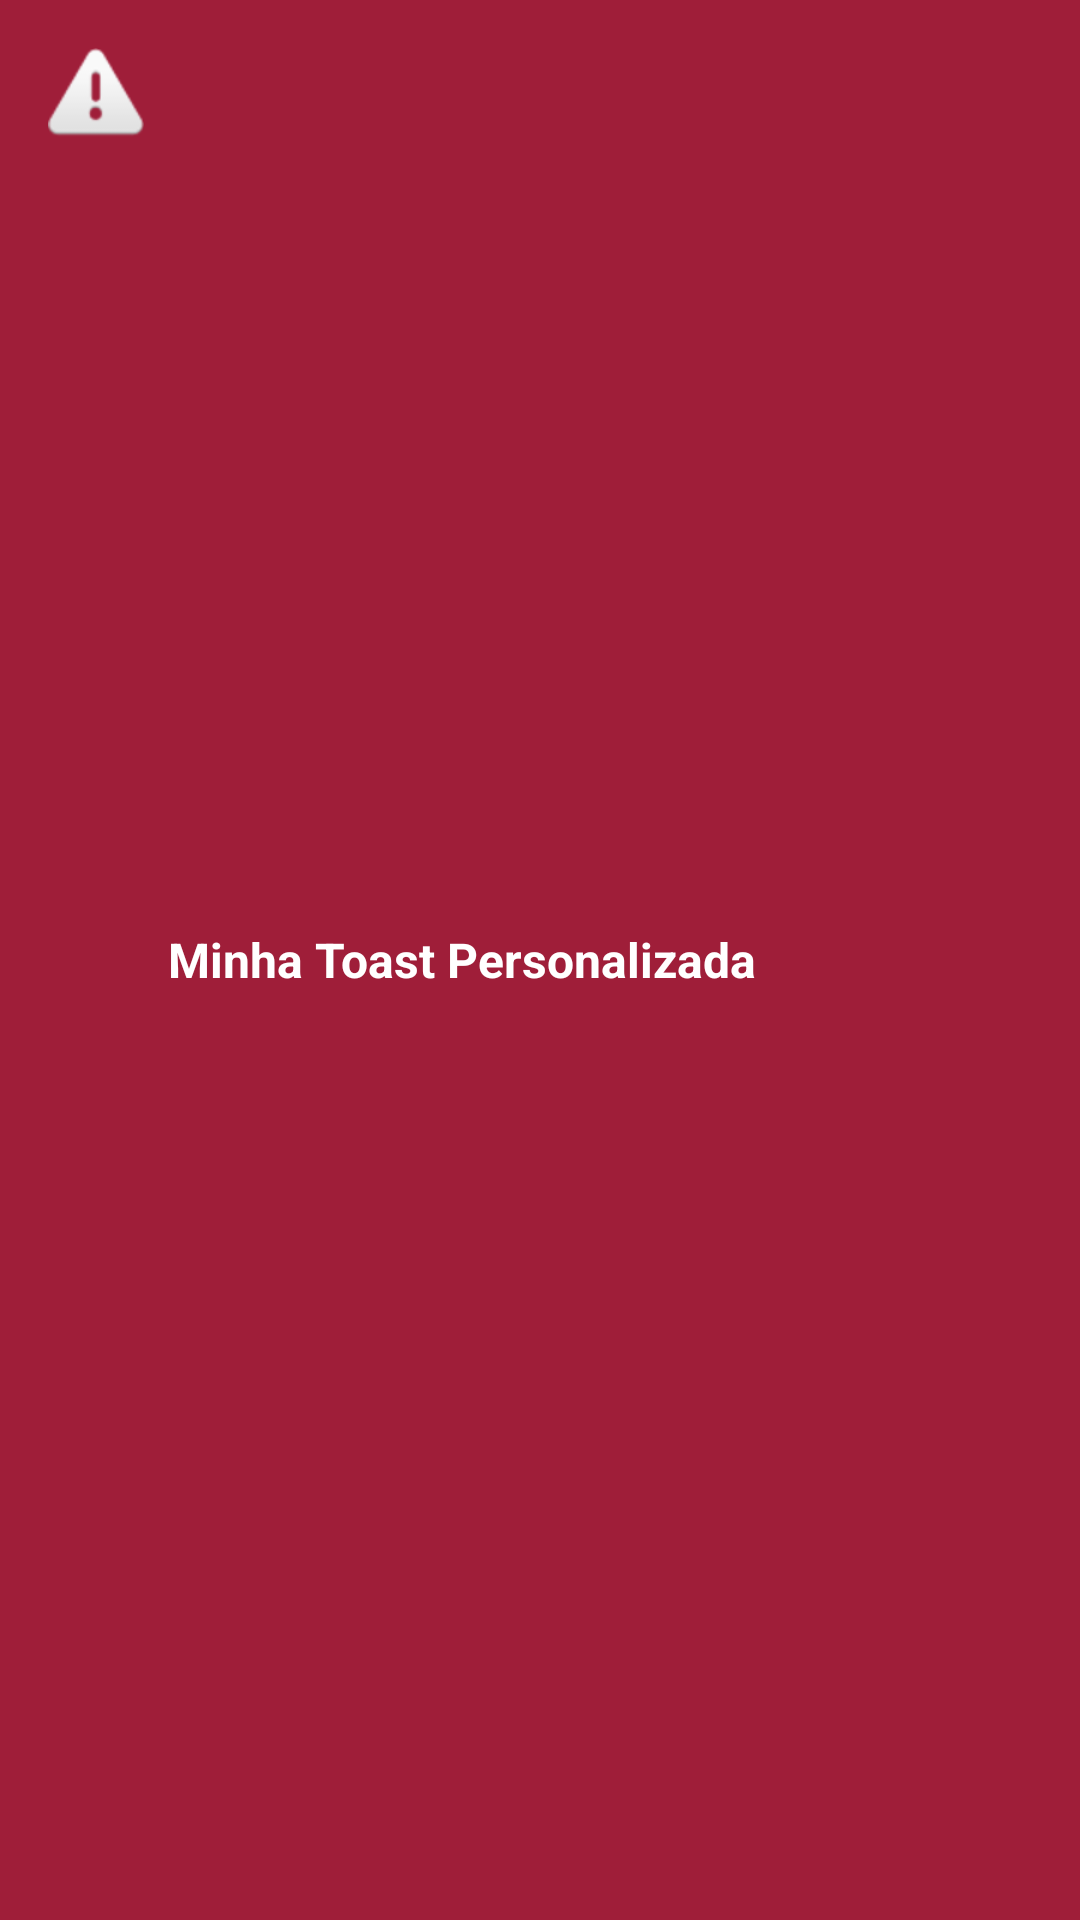

Screen size 1080 × 1920. Icon name, then its center in pixels as [x,y]:
alert: [96,91]
